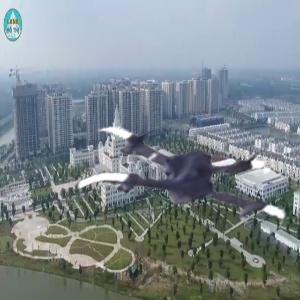drone: (75, 93, 283, 300)
